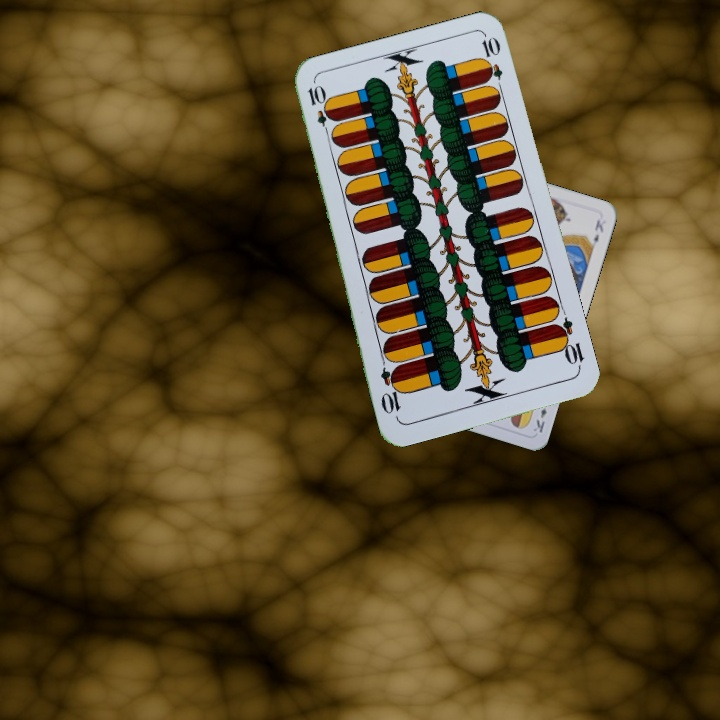E10: (550, 314, 587, 372), (303, 81, 334, 140)
EK: (529, 403, 549, 435)
